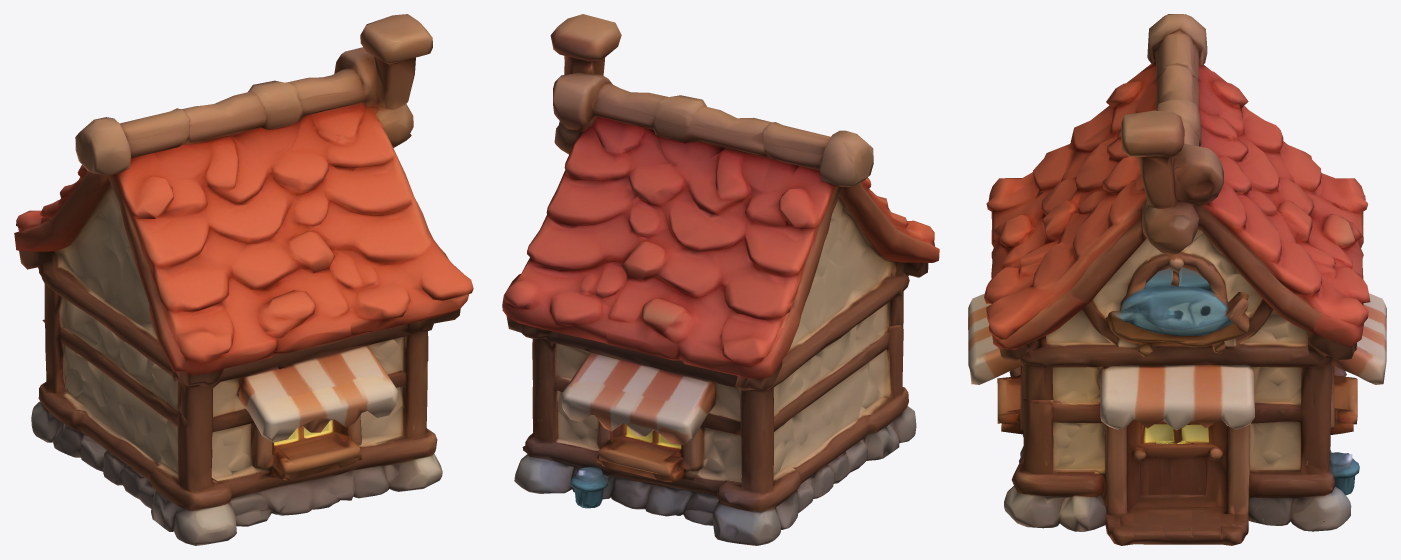
Rendered from tavern.glb.
The picture shows the model from 3 angles, left to right: view 1: azimuth 30°, elevation 25°; view 2: azimuth 150°, elevation 25°; view 3: azimuth 270°, elevation 25°; orthographic projection. The views are drawn at different scales.
Visible parts, largest first — view 1: tripo_node_476343e7-92b7-46d7-aca0-9446314c80d4; view 2: tripo_node_476343e7-92b7-46d7-aca0-9446314c80d4; view 3: tripo_node_476343e7-92b7-46d7-aca0-9446314c80d4.
Boxes of the visible parts, x1,y1,x2,y2 form: tripo_node_476343e7-92b7-46d7-aca0-9446314c80d4: (14,14,473,545); tripo_node_476343e7-92b7-46d7-aca0-9446314c80d4: (502,14,939,545); tripo_node_476343e7-92b7-46d7-aca0-9446314c80d4: (968,14,1386,545).
Size of the model in its own units: 0.8418 by 0.9997 by 0.9044.
Materials: 1 (1 with a texture image).
